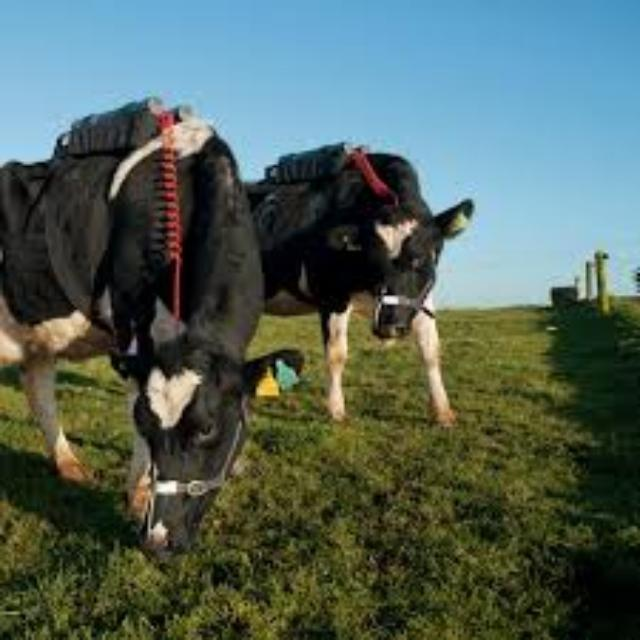person: (0, 74, 262, 582), (246, 120, 504, 447)
